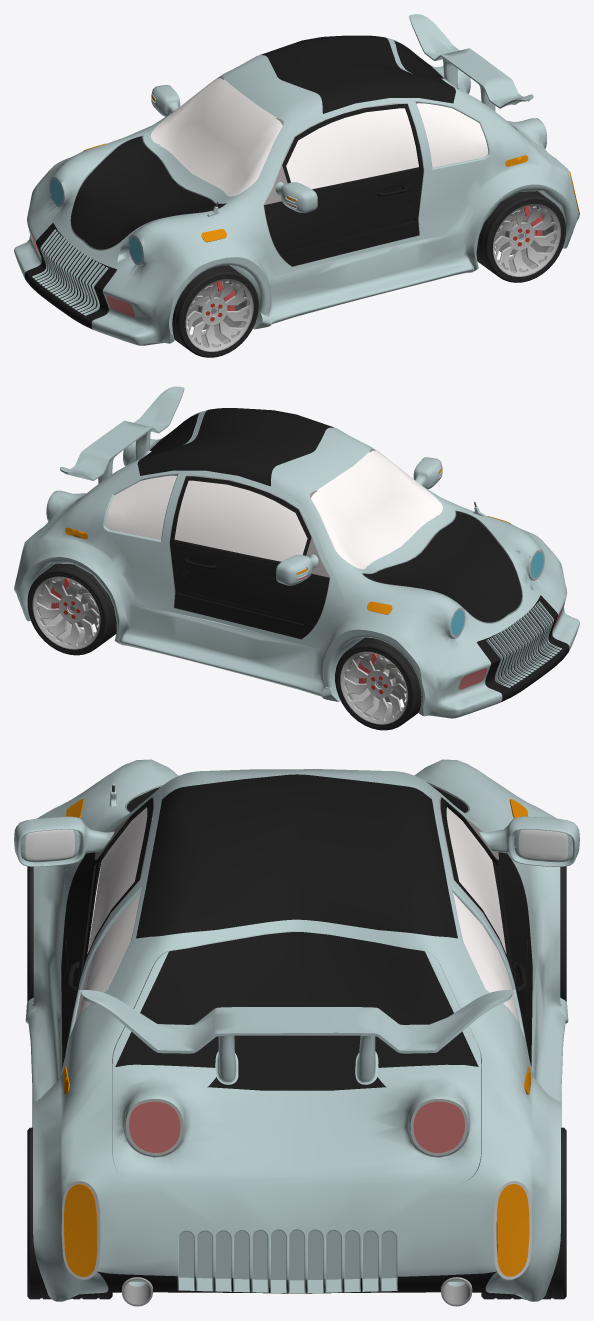
3 views of the same model, one above another, from view 1: azimuth 30°, elevation 25°; view 2: azimuth 150°, elevation 25°; view 3: azimuth 270°, elevation 25° (orthographic). The views are drawn at different scales.
Parts seen in each view (by area): view 1: Mesh_10.001_LOD_2, door left:1.001_LOD_2, whell v7:2.001_LOD_2, whell v7:1.001_LOD_2, door left(Symétrie miroir):1.001_LOD_2; view 2: Mesh_10.001_LOD_2, door left:1.001_LOD_2, door left(Symétrie miroir):1.001_LOD_2, whell v6(Symétrie miroir):2.001_LOD_2, whell v6(Symétrie miroir):1.001_LOD_2; view 3: Mesh_10.001_LOD_2, door left:1.001_LOD_2, door left(Symétrie miroir):1.001_LOD_2, whell v6(Symétrie miroir):2.001_LOD_2, whell v7:2.001_LOD_2, whell v6(Symétrie miroir):1.001_LOD_2, whell v7:1.001_LOD_2.
Part boxes in pixels (x1,y1,x2,y2): Mesh_10.001_LOD_2: (14, 14, 579, 345); door left:1.001_LOD_2: (263, 103, 424, 267); whell v7:2.001_LOD_2: (476, 191, 565, 282); whell v7:1.001_LOD_2: (172, 265, 258, 357); door left(Symétrie miroir):1.001_LOD_2: (151, 84, 180, 116); Mesh_10.001_LOD_2: (14, 386, 579, 718); door left:1.001_LOD_2: (170, 457, 442, 639); door left(Symétrie miroir):1.001_LOD_2: (169, 475, 330, 639); whell v6(Symétrie miroir):2.001_LOD_2: (27, 563, 116, 655); whell v6(Symétrie miroir):1.001_LOD_2: (335, 637, 421, 730); Mesh_10.001_LOD_2: (25, 759, 568, 1306); door left:1.001_LOD_2: (14, 796, 532, 1067); door left(Symétrie miroir):1.001_LOD_2: (439, 796, 579, 970); whell v6(Symétrie miroir):2.001_LOD_2: (481, 1127, 566, 1299); whell v7:2.001_LOD_2: (27, 1127, 112, 1299); whell v6(Symétrie miroir):1.001_LOD_2: (560, 866, 566, 1001); whell v7:1.001_LOD_2: (27, 866, 33, 1001).
Size of the model in its own units: 0.1643 by 0.0655 by 0.0922.
